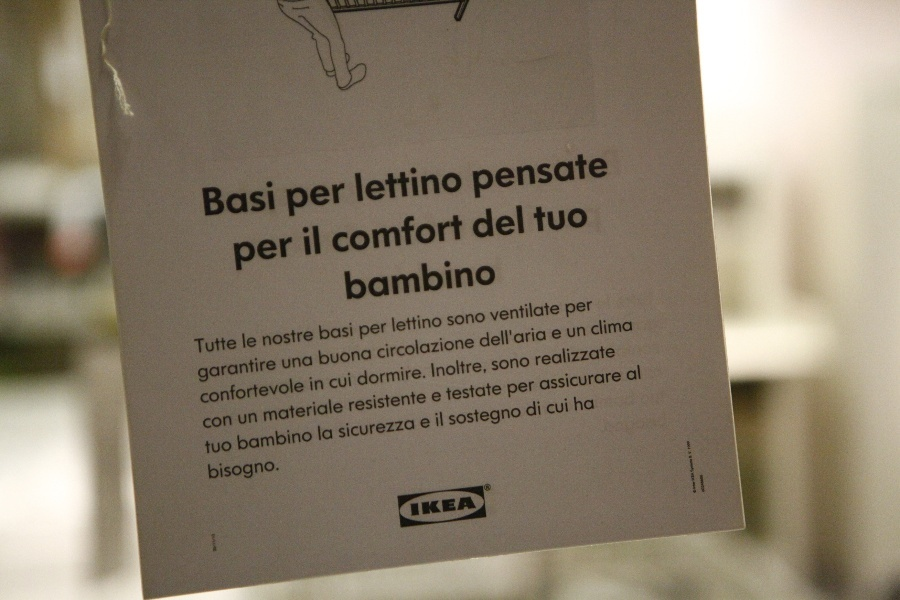text: (593, 150, 609, 199), (481, 150, 496, 199), (497, 150, 512, 199), (513, 150, 528, 199), (529, 150, 544, 199), (545, 150, 560, 199), (561, 150, 576, 199), (577, 150, 592, 199), (481, 256, 497, 301), (337, 209, 352, 254), (353, 209, 368, 254), (369, 209, 384, 254), (385, 209, 400, 254), (401, 209, 416, 254), (417, 209, 432, 254), (433, 209, 448, 254), (449, 209, 464, 254), (353, 256, 368, 301), (369, 256, 384, 301), (385, 256, 400, 301), (401, 256, 416, 301), (417, 256, 432, 301), (433, 256, 448, 301), (449, 256, 464, 301), (465, 256, 480, 301), (369, 163, 384, 204), (385, 163, 400, 204), (401, 163, 416, 204), (417, 163, 432, 204), (433, 163, 448, 204), (449, 163, 464, 204), (241, 233, 256, 274), (257, 233, 272, 274), (273, 233, 288, 274), (481, 202, 496, 241), (497, 202, 512, 241), (354, 163, 368, 204), (209, 180, 224, 218), (225, 180, 240, 218), (241, 180, 256, 218), (257, 180, 272, 218), (289, 181, 304, 219), (305, 181, 320, 219), (321, 181, 336, 219), (513, 202, 526, 241), (305, 224, 320, 257), (209, 354, 224, 386), (225, 354, 240, 386), (241, 354, 256, 386), (257, 354, 272, 386), (545, 203, 560, 233), (561, 203, 576, 233), (209, 376, 224, 406), (225, 376, 240, 406), (241, 376, 256, 406), (257, 376, 272, 406), (273, 376, 288, 406), (289, 376, 304, 406), (471, 150, 480, 199), (209, 457, 224, 485), (225, 457, 240, 485), (241, 457, 256, 485), (257, 457, 272, 485), (343, 256, 352, 301), (385, 333, 400, 359), (401, 333, 416, 359), (417, 333, 432, 359), (433, 333, 448, 359), (449, 333, 464, 359), (196, 354, 208, 386), (337, 181, 347, 219), (273, 397, 288, 422), (289, 397, 304, 422), (305, 397, 320, 422), (321, 397, 336, 422), (545, 367, 560, 392), (561, 367, 576, 392), (577, 367, 592, 392), (593, 367, 608, 392), (241, 427, 256, 452), (257, 427, 272, 452), (273, 427, 288, 452), (289, 427, 304, 452), (532, 203, 544, 233), (577, 203, 589, 233), (481, 325, 496, 349), (497, 325, 512, 349), (513, 325, 528, 349), (529, 325, 544, 349), (545, 343, 560, 367), (561, 343, 576, 367), (577, 343, 592, 367), (593, 343, 608, 367), (353, 416, 368, 440), (369, 416, 384, 440), (385, 416, 400, 440), (401, 416, 416, 440), (449, 405, 464, 429), (465, 405, 480, 429), (481, 405, 496, 429), (497, 405, 512, 429), (471, 202, 480, 241), (353, 390, 368, 413), (369, 390, 384, 413), (385, 390, 400, 413), (401, 390, 416, 413), (338, 416, 352, 440), (401, 311, 416, 333), (417, 311, 432, 333), (497, 300, 512, 322), (513, 300, 528, 322), (529, 300, 544, 322), (545, 300, 560, 322), (369, 365, 384, 387), (385, 365, 400, 387), (401, 365, 416, 387), (417, 496, 432, 518), (433, 496, 448, 518), (449, 496, 464, 518), (232, 233, 240, 274), (609, 367, 622, 392), (577, 299, 593, 319), (193, 334, 208, 354), (209, 334, 224, 354), (593, 316, 608, 336), (609, 316, 624, 336), (433, 359, 448, 379), (449, 359, 464, 379), (465, 359, 480, 379), (465, 333, 476, 359), (465, 496, 478, 518), (273, 328, 288, 347), (289, 328, 304, 347), (321, 321, 336, 340), (337, 321, 352, 340), (369, 322, 384, 341), (321, 347, 336, 366), (337, 347, 352, 366), (353, 347, 368, 366), (449, 383, 464, 402), (465, 383, 480, 402), (481, 383, 496, 402), (513, 380, 528, 399), (209, 437, 224, 456), (199, 376, 208, 406), (337, 372, 352, 390), (577, 394, 592, 412), (201, 180, 208, 218), (356, 365, 368, 387), (242, 331, 256, 349), (626, 363, 640, 381), (546, 397, 560, 415), (321, 423, 334, 442), (529, 400, 542, 419), (225, 334, 237, 354), (449, 311, 464, 327), (465, 311, 480, 327), (564, 299, 576, 319), (289, 354, 304, 370), (497, 356, 512, 372), (513, 356, 528, 372), (417, 390, 427, 413), (331, 209, 336, 254), (209, 415, 224, 430), (263, 397, 272, 422), (273, 457, 281, 485), (435, 411, 448, 428), (390, 311, 400, 333), (433, 311, 443, 333), (486, 300, 496, 322), (417, 365, 427, 387), (535, 343, 544, 367), (513, 405, 522, 429), (689, 459, 704, 473), (376, 333, 384, 359), (289, 233, 294, 274), (305, 427, 313, 452), (241, 412, 256, 425), (308, 376, 320, 392), (262, 328, 272, 347), (305, 328, 314, 347), (359, 322, 368, 341), (609, 343, 616, 367), (420, 416, 432, 430), (625, 316, 633, 336), (409, 496, 416, 518), (273, 180, 277, 218), (225, 437, 233, 456), (337, 397, 343, 422), (305, 354, 314, 370), (561, 397, 569, 415), (566, 325, 576, 339), (577, 325, 587, 339), (481, 359, 488, 379), (690, 472, 704, 482), (550, 328, 560, 341), (273, 354, 277, 386), (280, 354, 288, 370), (329, 372, 336, 390), (539, 367, 544, 392), (225, 415, 233, 430), (484, 482, 496, 492), (433, 391, 442, 404), (285, 181, 288, 219), (529, 380, 535, 399), (692, 481, 704, 490), (236, 427, 240, 452), (699, 474, 704, 494), (497, 383, 502, 402), (507, 380, 512, 399), (348, 390, 352, 413), (202, 415, 208, 430), (481, 311, 486, 327), (491, 356, 496, 372), (369, 347, 373, 366), (204, 437, 208, 456), (302, 224, 304, 257), (317, 347, 320, 366), (317, 423, 320, 442), (525, 400, 528, 419), (573, 394, 576, 412), (478, 325, 480, 349), (545, 325, 547, 349), (321, 376, 324, 392), (590, 316, 592, 336), (430, 359, 432, 379), (385, 322, 387, 341), (446, 383, 448, 402), (593, 394, 595, 412), (689, 450, 693, 459), (321, 224, 322, 257), (529, 356, 531, 372), (207, 457, 208, 485), (561, 328, 563, 341), (238, 412, 240, 425), (686, 440, 688, 450), (689, 440, 691, 450), (705, 474, 706, 494), (319, 321, 320, 340), (353, 321, 354, 340), (641, 363, 642, 381), (447, 311, 448, 327), (257, 412, 258, 425), (431, 391, 432, 404)
